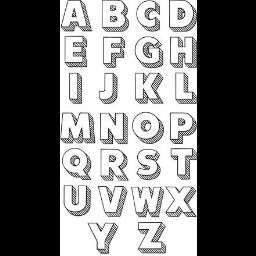a: (60, 0, 94, 34)
b: (96, 0, 130, 34)
c: (133, 0, 163, 34)
d: (166, 0, 196, 34)
e: (62, 34, 88, 70)
f: (96, 35, 126, 71)
g: (133, 34, 165, 70)
h: (168, 34, 196, 70)
i: (67, 72, 85, 106)
j: (94, 72, 120, 106)
k: (130, 70, 166, 108)
l: (170, 70, 196, 106)
m: (60, 110, 96, 146)
n: (98, 110, 128, 146)
o: (130, 110, 166, 146)
p: (168, 111, 196, 145)
q: (60, 146, 98, 182)
r: (97, 148, 129, 182)
s: (133, 148, 163, 182)
t: (166, 146, 196, 182)
u: (60, 182, 92, 218)
v: (94, 184, 128, 220)
w: (130, 185, 164, 219)
x: (164, 184, 196, 218)
y: (84, 219, 118, 255)
z: (132, 218, 168, 256)
